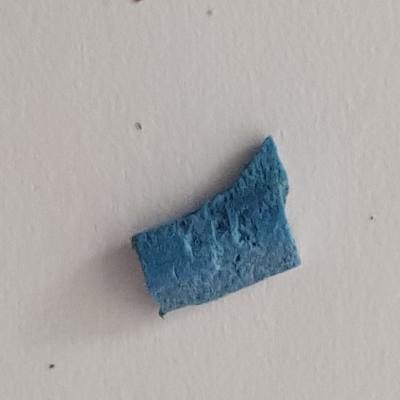plastic: (121, 125, 308, 323)
